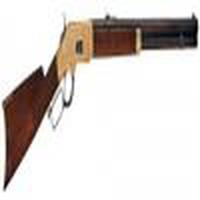gun: (2, 16, 200, 189)
